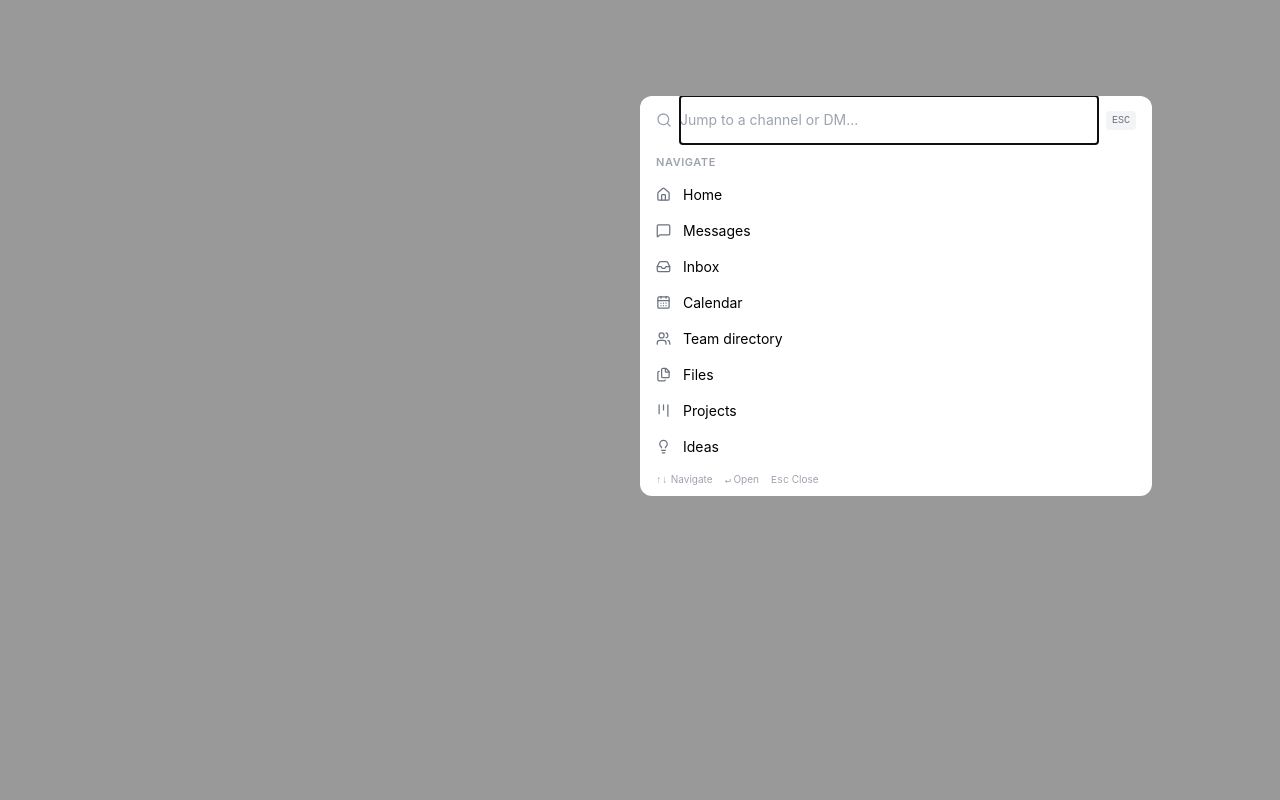
Test: workspace commands › keeps Preferences searchable even when no navigation page matches
Type "preferences" into the dropdown.
click(889, 120); type("preferences")  # box [680,96,1098,144]
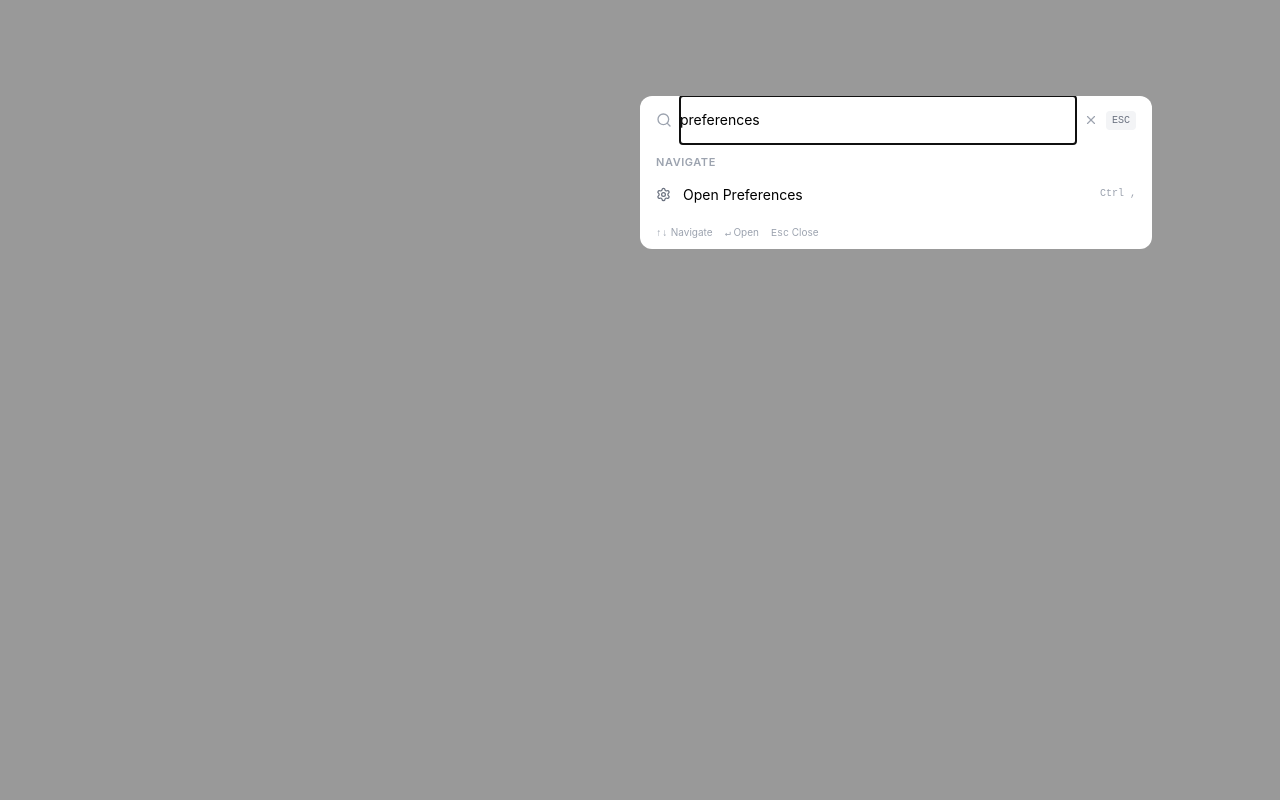
Check: the option "Open Preferences Ctrl ," is shown, box [656,186,1136,202]
